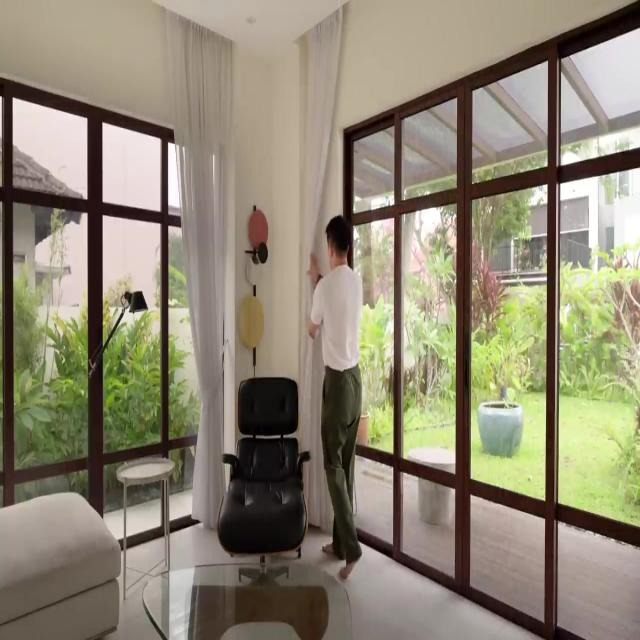door: (340, 2, 640, 638)
obstacle: (216, 376, 311, 582), (0, 490, 121, 639), (142, 562, 352, 639), (116, 456, 174, 599)
person: (306, 214, 363, 579)
